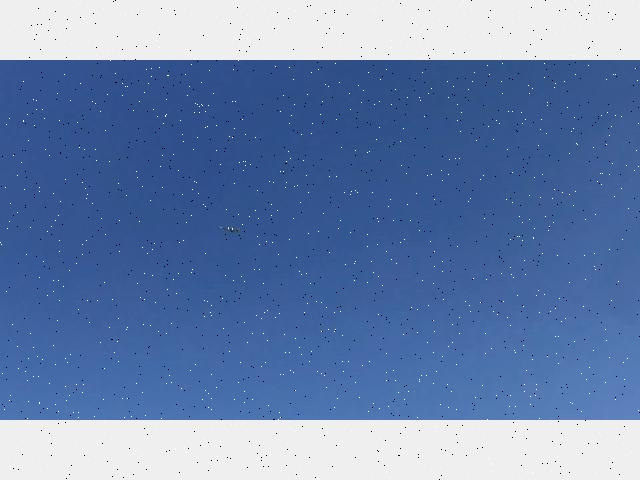Anti-Drone: (204, 217, 268, 247)
